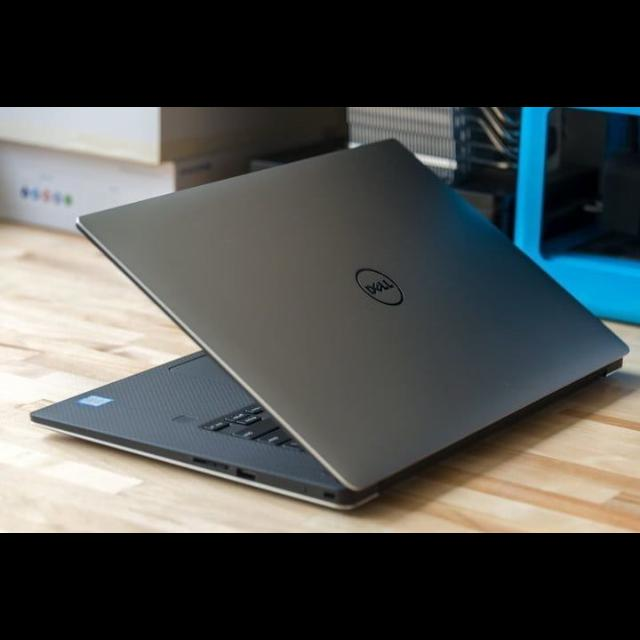laptop: (24, 134, 640, 506)
